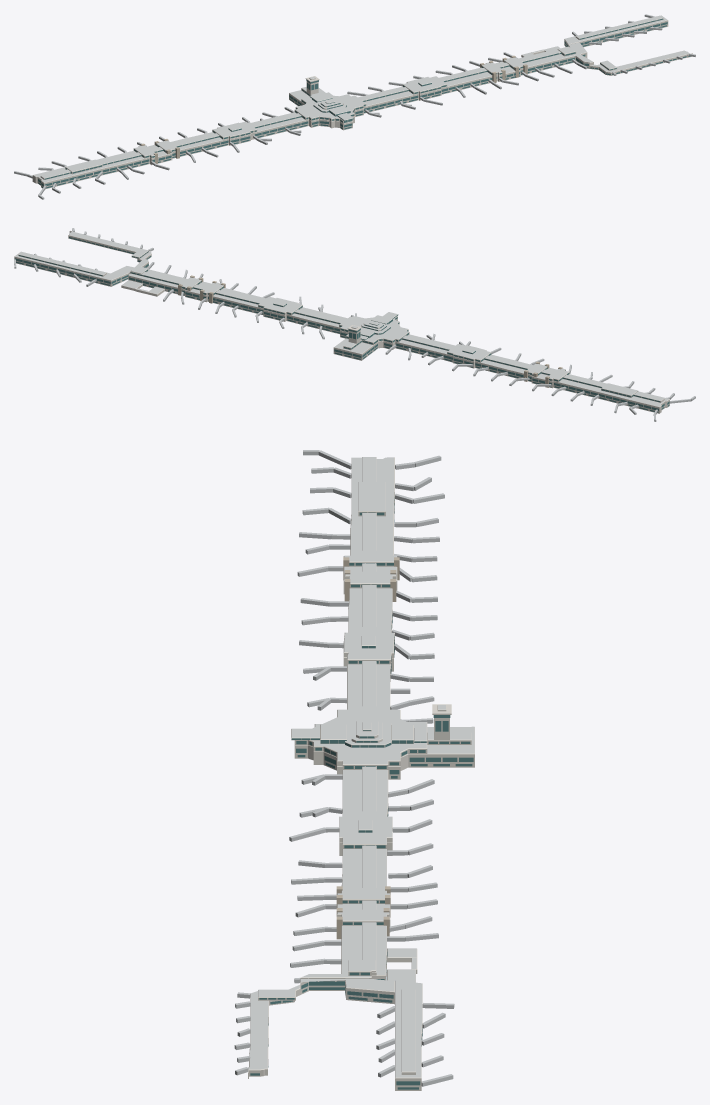
The model's file is den-airport-concourse-b.glb.
3 views of the same model, one above another, from view 1: azimuth 30°, elevation 25°; view 2: azimuth 150°, elevation 25°; view 3: azimuth 270°, elevation 25° (orthographic). The views are drawn at different scales.
Parts seen in each view (by area): view 1: Denver International Airport, Concourse B; view 2: Denver International Airport, Concourse B; view 3: Denver International Airport, Concourse B.
Part boxes in pixels (x1,y1,x2,y2): Denver International Airport, Concourse B: (14,14,695,199); Denver International Airport, Concourse B: (14,228,695,421); Denver International Airport, Concourse B: (234,450,474,1090).
Bounding box in the file's own units: 1345 × 47.5 × 216.
